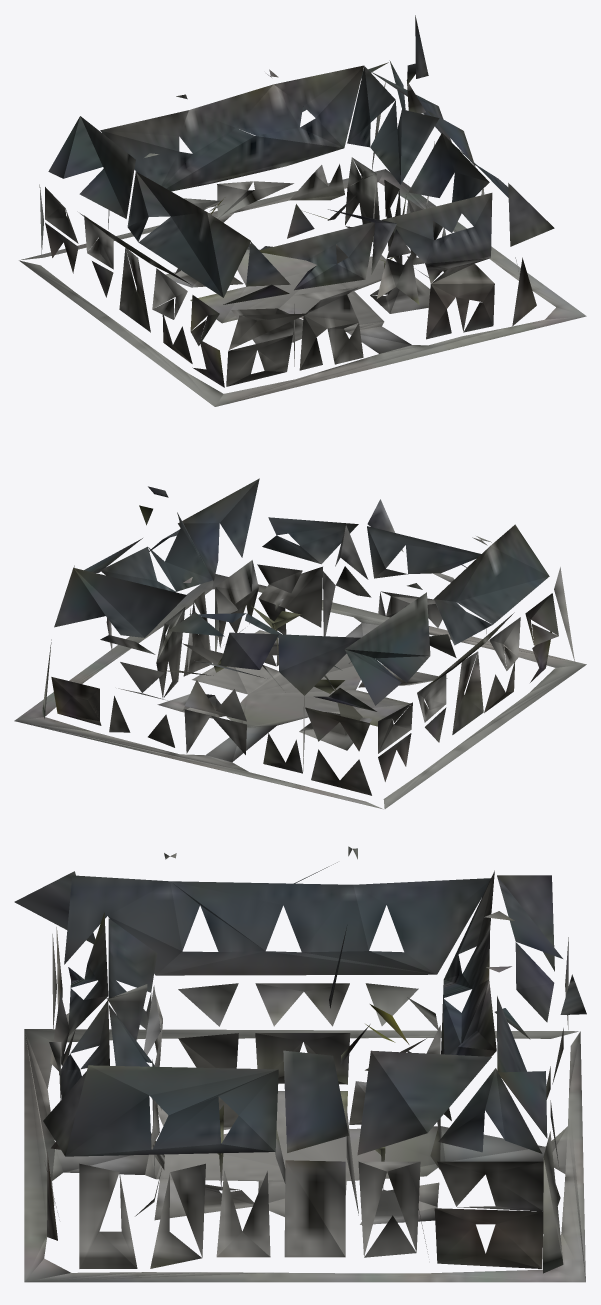
Rendered from hospital.glb.
3 views of the same model, one above another, from view 1: azimuth 30°, elevation 25°; view 2: azimuth 150°, elevation 25°; view 3: azimuth 270°, elevation 25° (orthographic). The views are drawn at different scales.
Visible parts, largest first — view 1: tripo_node_25997bc9-89f0-41be-898b-17871; view 2: tripo_node_25997bc9-89f0-41be-898b-17871; view 3: tripo_node_25997bc9-89f0-41be-898b-17871.
Part boxes in pixels (x1,y1,x2,y2): tripo_node_25997bc9-89f0-41be-898b-17871: [19, 15, 586, 406]; tripo_node_25997bc9-89f0-41be-898b-17871: [14, 478, 586, 809]; tripo_node_25997bc9-89f0-41be-898b-17871: [14, 846, 586, 1282].
Size of the model in its own units: 38.34 by 24.25 by 36.61.
1 material, 1 textured.
